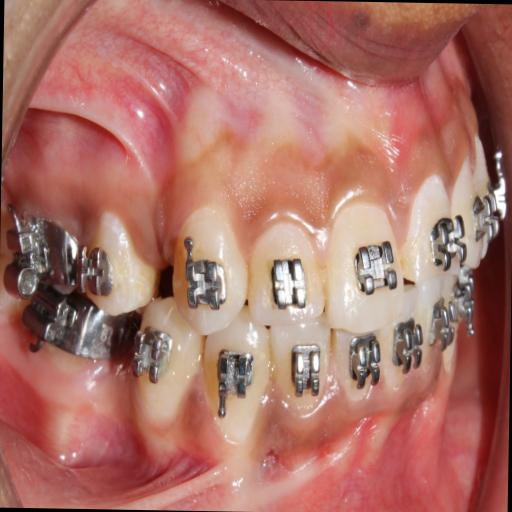correct_brace: (82, 214, 156, 312), (184, 227, 236, 312), (350, 230, 399, 305), (266, 250, 311, 316)
incorrect_brace: (247, 224, 324, 324), (84, 240, 121, 302)
